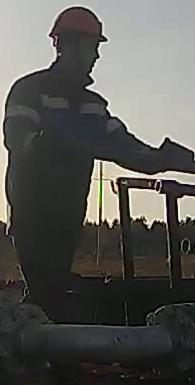helmet: (48, 4, 109, 52)
vest: (3, 70, 194, 324)
